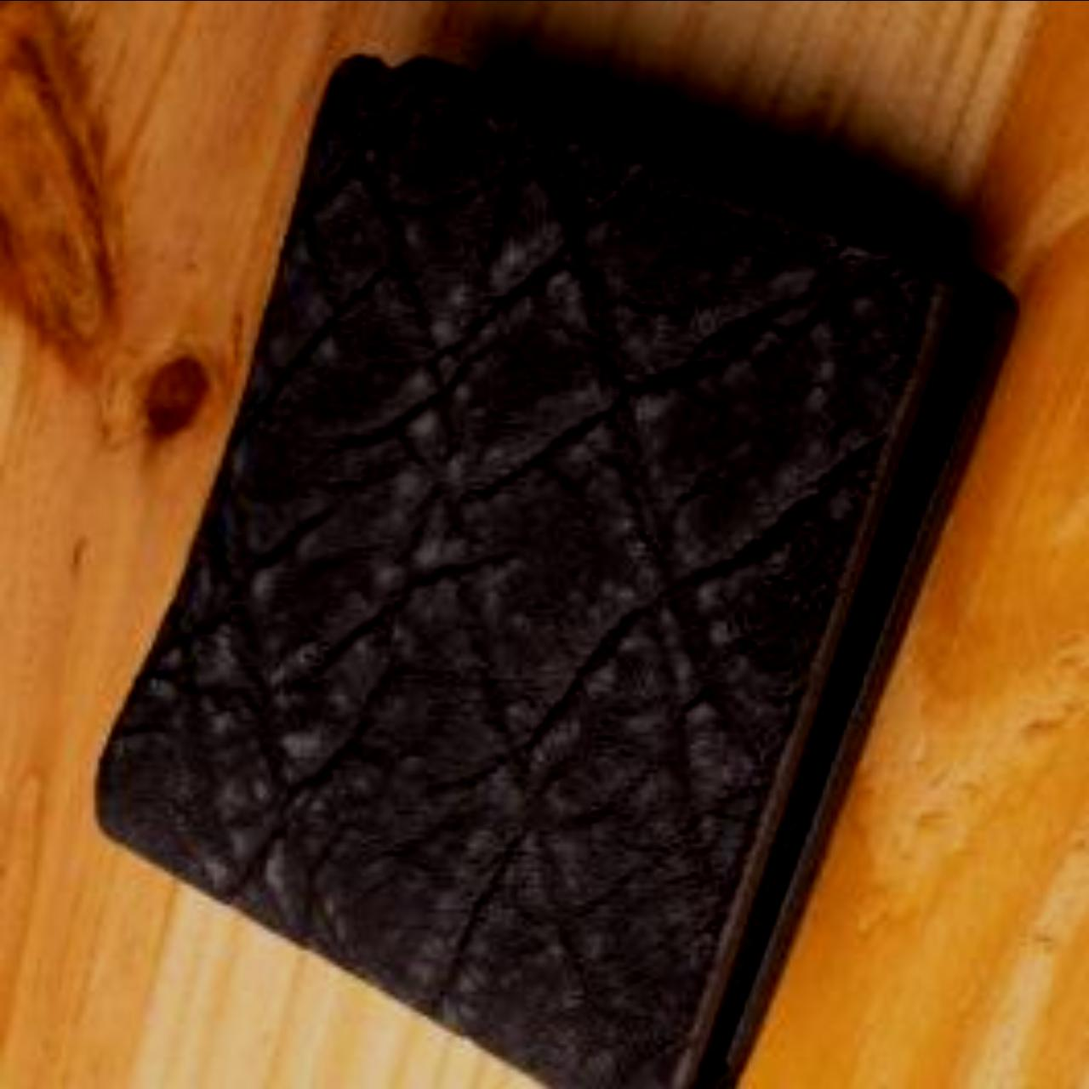wallet: (56, 16, 1083, 1056)
